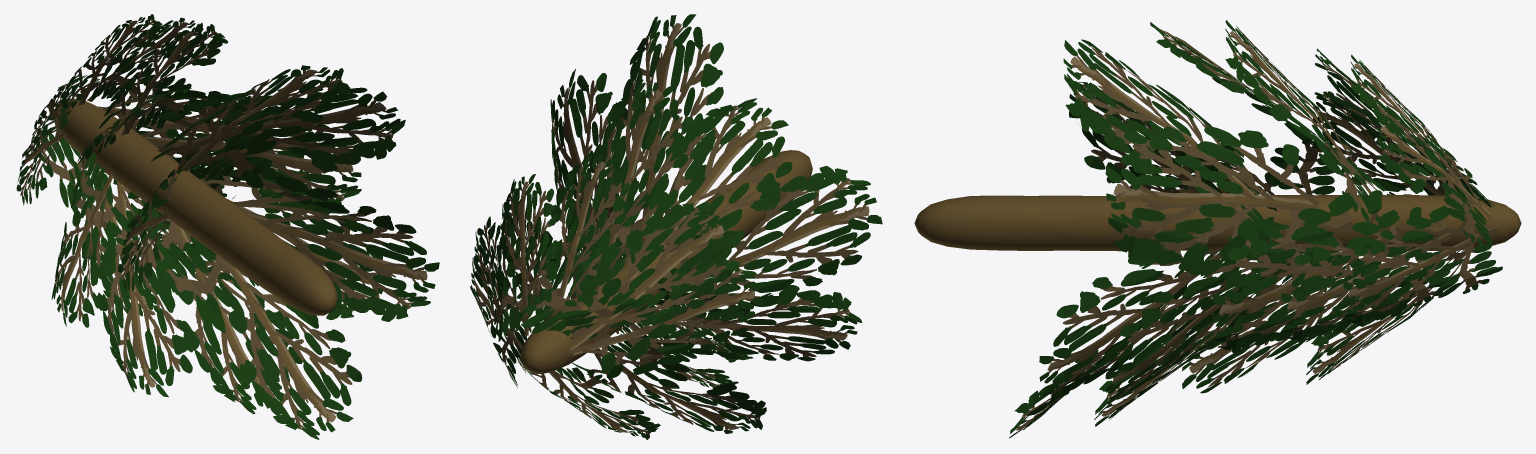
The model's file is Tree Final.fbx.
3 renders of one model, left to right at view 1: azimuth 30°, elevation 25°; view 2: azimuth 150°, elevation 25°; view 3: azimuth 270°, elevation 25°, orthographic. The views are drawn at different scales.
Parts seen in each view (by area): view 1: Plane.009; view 2: Plane.009; view 3: Plane.009.
Part boxes in pixels (x1=…): Plane.009: x1=16, y1=14, x2=439, y2=439; Plane.009: x1=470, y1=14, x2=882, y2=439; Plane.009: x1=914, y1=20, x2=1521, y2=438.
Bounding box in the file's own units: 1507 × 1544 × 2105.
